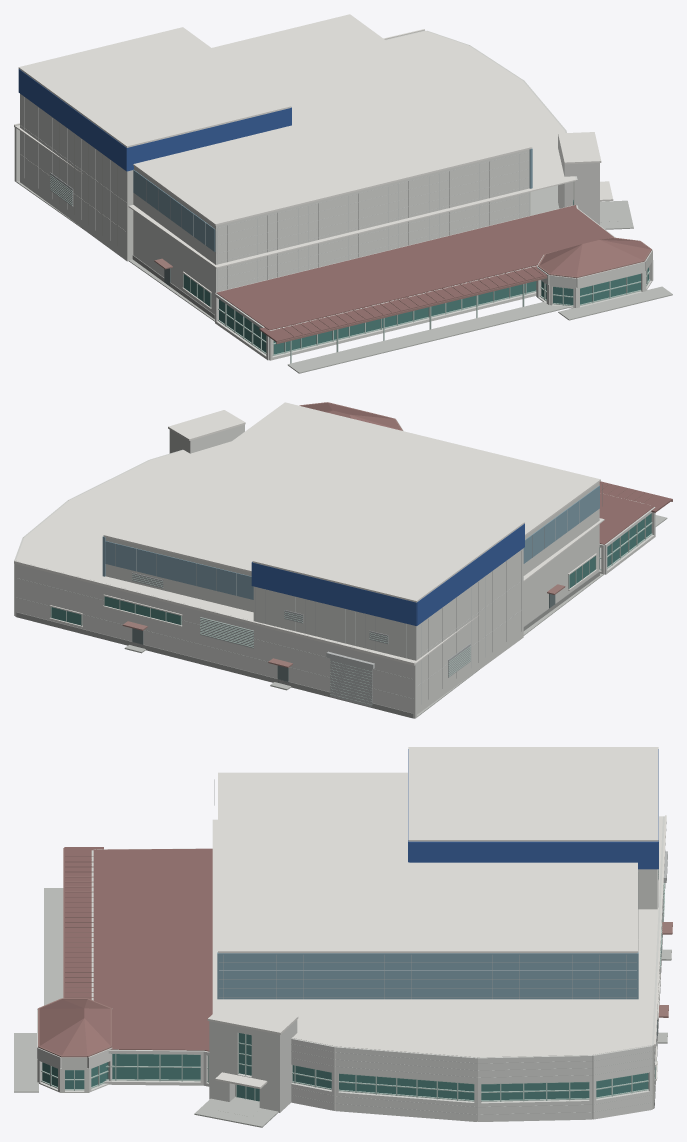
3 views of the same model, one above another, from view 1: azimuth 30°, elevation 25°; view 2: azimuth 150°, elevation 25°; view 3: azimuth 270°, elevation 25° (orthographic). The views are drawn at different scales.
Visible parts, largest first — view 1: N5 auditorium coping, N5 auditorium opaque body, N5 fly tower coping, N5 south low foyer roof, N5 foyer roof, N5 stage fly tower, N5 continuous south canopy, N5 south apron threshold, N5 stage south upper panel, N5 projecting entrance hipped red roof, N5 stage west upper panel, N5 south low lobby recessed glass (+11 smaller); view 2: N5 auditorium coping, N5 fly tower coping, N5 north service wall, N5 stage fly tower, N5 foyer roof, N5 auditorium opaque body, N5 stage north upper panel, N5 auditorium north panel zone, N5 stage west upper panel, N5 rear plinth, N5 west panel zone, N5 rear scene dock shutter (+10 smaller); view 3: N5 auditorium coping, N5 fly tower coping, N5 south low foyer roof, N5 foyer roof, N5 upper east panel zone, N5 stage east upper panel, N5 continuous south canopy, N5 east foyer bay 02 head solid, N5 projecting entrance hipped red roof, N5 east foyer bay 01 head solid, N5 east foyer bay 02 sill solid, N5 east entrance projecting mass (+18 smaller).
Boxes of the visible parts, x1,y1,x2,y2 form: N5 auditorium coping: (133, 14, 531, 225); N5 auditorium opaque body: (133, 149, 530, 314); N5 fly tower coping: (18, 27, 291, 147); N5 south low foyer roof: (216, 205, 613, 330); N5 foyer roof: (15, 31, 575, 268); N5 stage fly tower: (20, 94, 133, 261); N5 continuous south canopy: (259, 265, 546, 342); N5 south apron threshold: (287, 302, 569, 373); N5 stage south upper panel: (126, 107, 291, 171); N5 projecting entrance hipped red roof: (539, 238, 650, 276); N5 stage west upper panel: (18, 69, 126, 171); N5 south low lobby recessed glass: (273, 281, 536, 354); N5 auditorium coping: (103, 402, 600, 572); N5 fly tower coping: (252, 482, 524, 602); N5 north service wall: (15, 564, 416, 718); N5 stage fly tower: (253, 548, 523, 714); N5 foyer roof: (16, 441, 604, 662); N5 auditorium opaque body: (105, 482, 599, 626); N5 stage north upper panel: (251, 562, 416, 625); N5 auditorium north panel zone: (105, 541, 253, 599); N5 stage west upper panel: (417, 524, 524, 625); N5 rear plinth: (16, 612, 413, 718); N5 west panel zone: (523, 485, 599, 563); N5 rear scene dock shutter: (330, 658, 372, 707); N5 auditorium coping: (218, 772, 637, 952); N5 fly tower coping: (408, 747, 658, 841); N5 south low foyer roof: (93, 848, 212, 1051); N5 foyer roof: (212, 816, 662, 1057); N5 upper east panel zone: (217, 952, 638, 999); N5 stage east upper panel: (409, 841, 657, 869); N5 continuous south canopy: (64, 847, 103, 999); N5 east foyer bay 02 head solid: (335, 1046, 477, 1083); N5 projecting entrance hipped red roof: (39, 999, 110, 1055); N5 east foyer bay 01 head solid: (477, 1055, 592, 1083); N5 east foyer bay 02 sill solid: (335, 1091, 477, 1121); N5 east entrance projecting mass: (259, 1020, 297, 1112).
Size of the model in its own units: 56.63 by 14.26 by 63.67.
